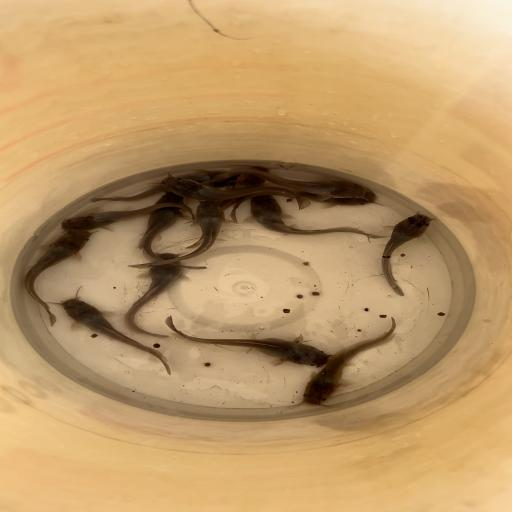lele: (298, 316, 398, 408), (59, 296, 172, 376), (162, 314, 332, 366), (22, 227, 92, 327), (127, 200, 225, 269), (248, 193, 390, 240), (136, 190, 208, 270), (122, 252, 186, 340), (159, 175, 312, 210), (90, 169, 236, 204), (229, 188, 377, 221), (228, 165, 368, 198), (380, 213, 434, 297), (59, 201, 197, 233), (215, 165, 271, 212)
